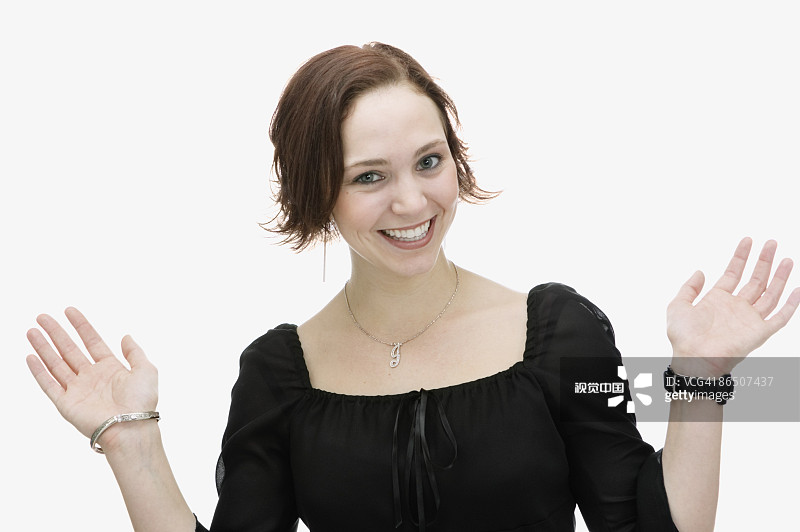no-phone: (8, 297, 179, 457), (648, 217, 800, 391)
